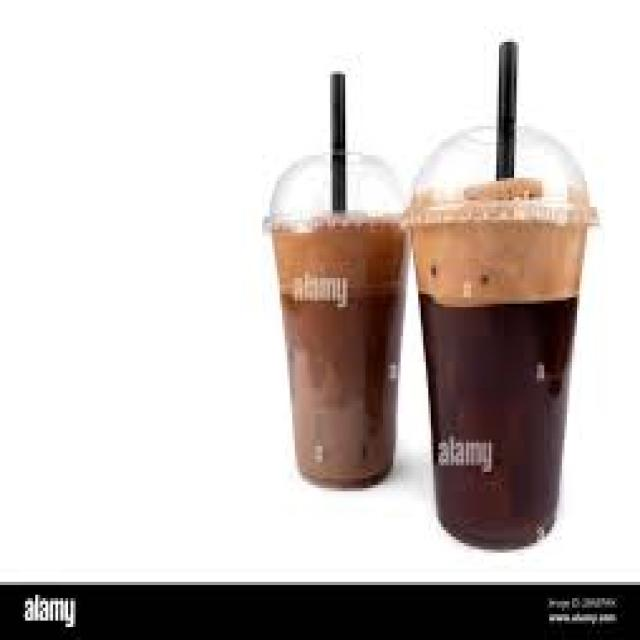bottle: (411, 202, 587, 546), (273, 218, 405, 485)
